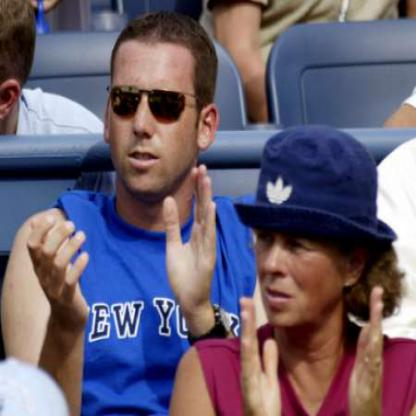face: (248, 154, 354, 335), (108, 14, 206, 197)
